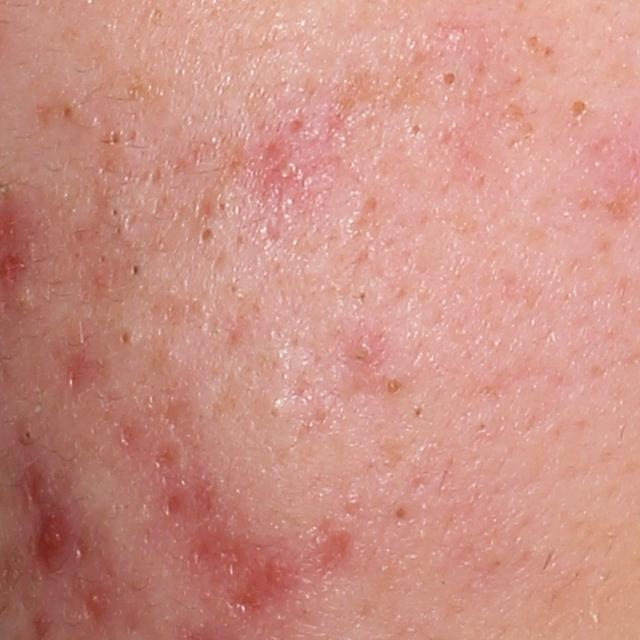atrophic_scar: (192, 516, 255, 579), (234, 554, 287, 620), (157, 476, 217, 529), (61, 342, 103, 396), (317, 528, 357, 577), (347, 192, 380, 234), (148, 437, 184, 474), (165, 397, 190, 431)
comedo: (258, 395, 290, 427), (565, 97, 592, 129), (11, 286, 38, 313), (403, 119, 425, 144), (383, 374, 407, 396), (390, 501, 412, 525), (439, 68, 460, 93), (195, 222, 216, 245), (115, 326, 135, 348), (58, 101, 78, 123), (18, 424, 36, 446), (106, 128, 125, 148), (127, 261, 144, 280), (212, 200, 230, 215), (108, 204, 122, 221)
papule: (270, 134, 317, 204), (34, 514, 71, 566), (354, 331, 384, 364)
